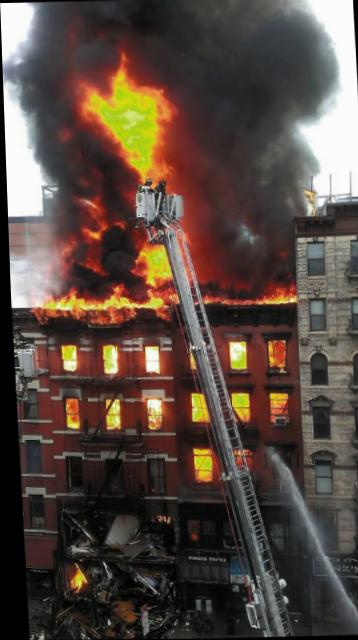fire: (28, 55, 296, 318)
